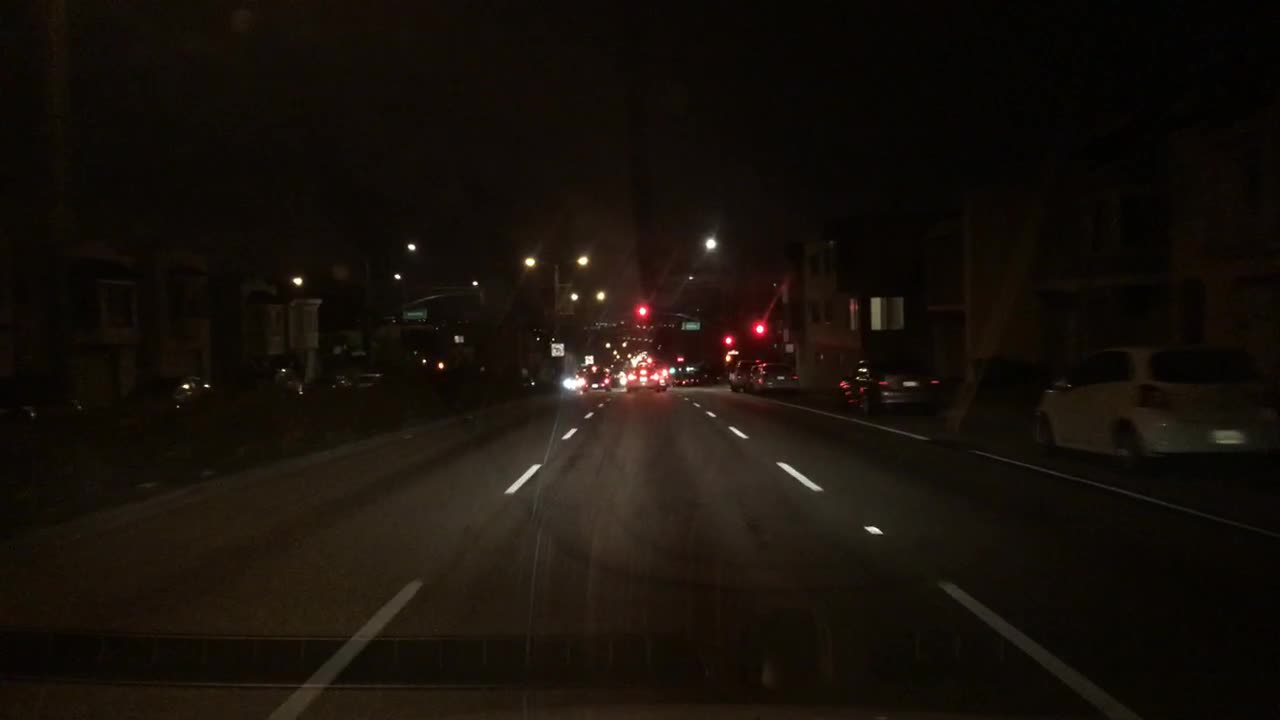car: (1030, 344, 1277, 477), (835, 354, 943, 421), (130, 374, 218, 411), (48, 394, 112, 424), (753, 360, 800, 394), (253, 367, 312, 394), (0, 404, 43, 436), (628, 365, 657, 390), (582, 367, 610, 392), (310, 372, 355, 387), (359, 371, 394, 384), (652, 366, 666, 390), (677, 371, 699, 385)
traffic light: (723, 375, 762, 390), (635, 304, 648, 320), (754, 320, 764, 338), (724, 335, 732, 351)
traffic sign: (559, 293, 574, 313), (402, 309, 427, 318), (683, 321, 699, 329), (552, 343, 563, 354)
